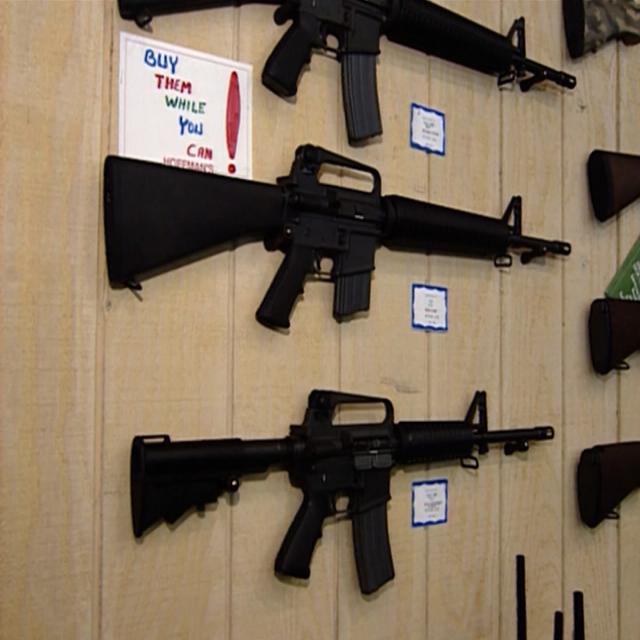Rifle: (103, 143, 570, 335), (130, 389, 551, 595), (118, 0, 580, 140)
